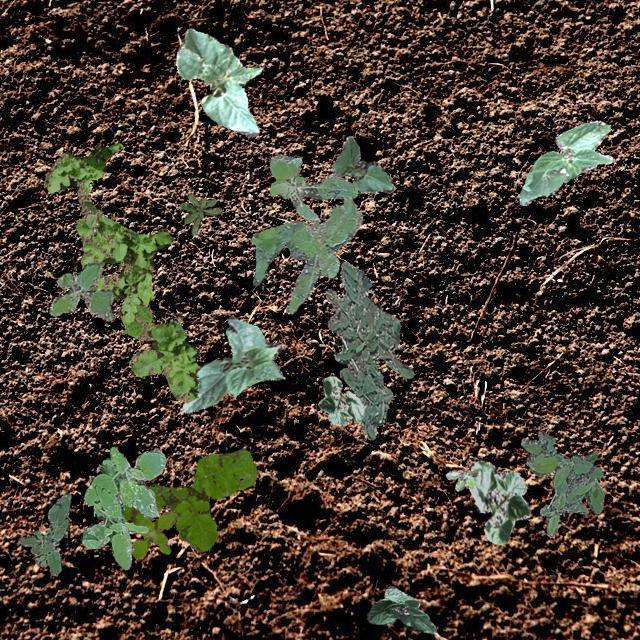crop: (180, 316, 284, 412), (174, 28, 260, 136), (518, 120, 612, 204), (466, 458, 528, 544), (332, 134, 392, 192), (366, 586, 436, 632), (316, 376, 366, 424)
weed: (43, 142, 198, 402), (324, 261, 414, 438), (122, 448, 255, 550), (250, 195, 362, 312), (80, 446, 166, 568), (520, 428, 602, 536), (268, 154, 356, 224), (18, 492, 70, 574), (49, 262, 112, 320), (130, 510, 176, 558), (178, 192, 220, 234), (444, 468, 478, 490)
